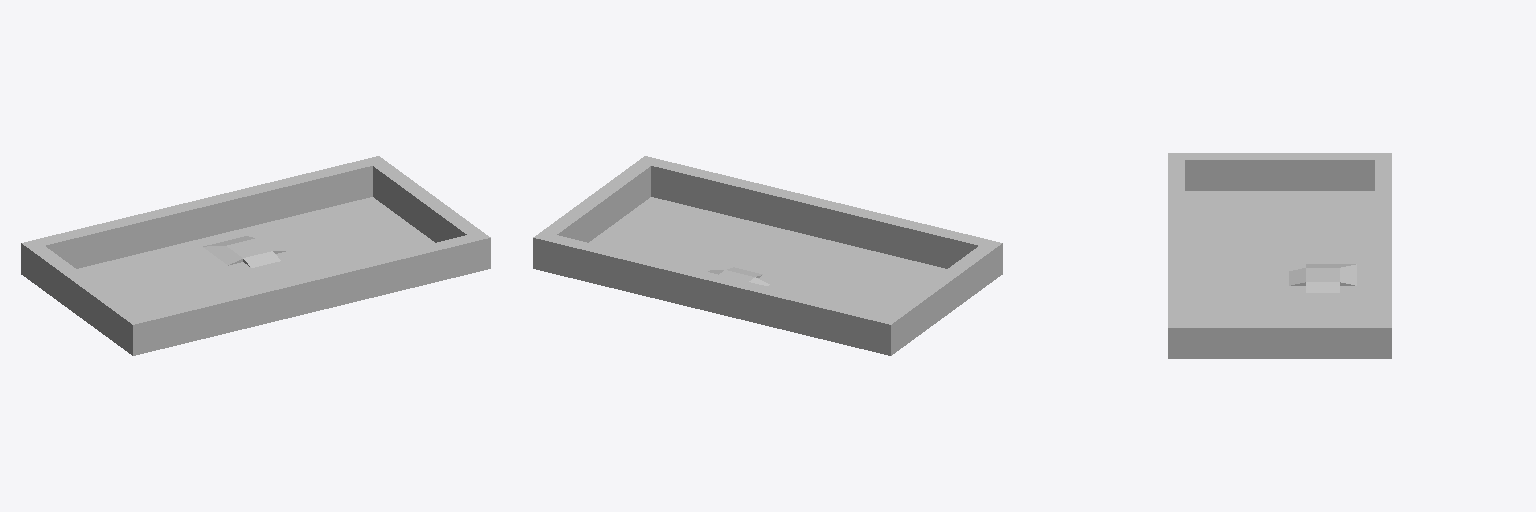
The model's file is mappi2.obj.
3 views of the same model, side by side, from view 1: azimuth 30°, elevation 25°; view 2: azimuth 150°, elevation 25°; view 3: azimuth 270°, elevation 25° (orthographic).
Bounding box in the file's own units: 240 × 20 × 130.